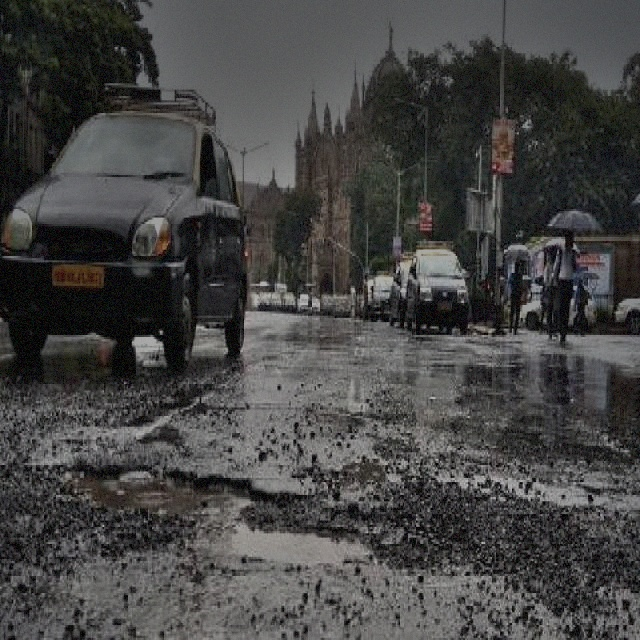pothole: (68, 461, 268, 520), (224, 508, 379, 570)
